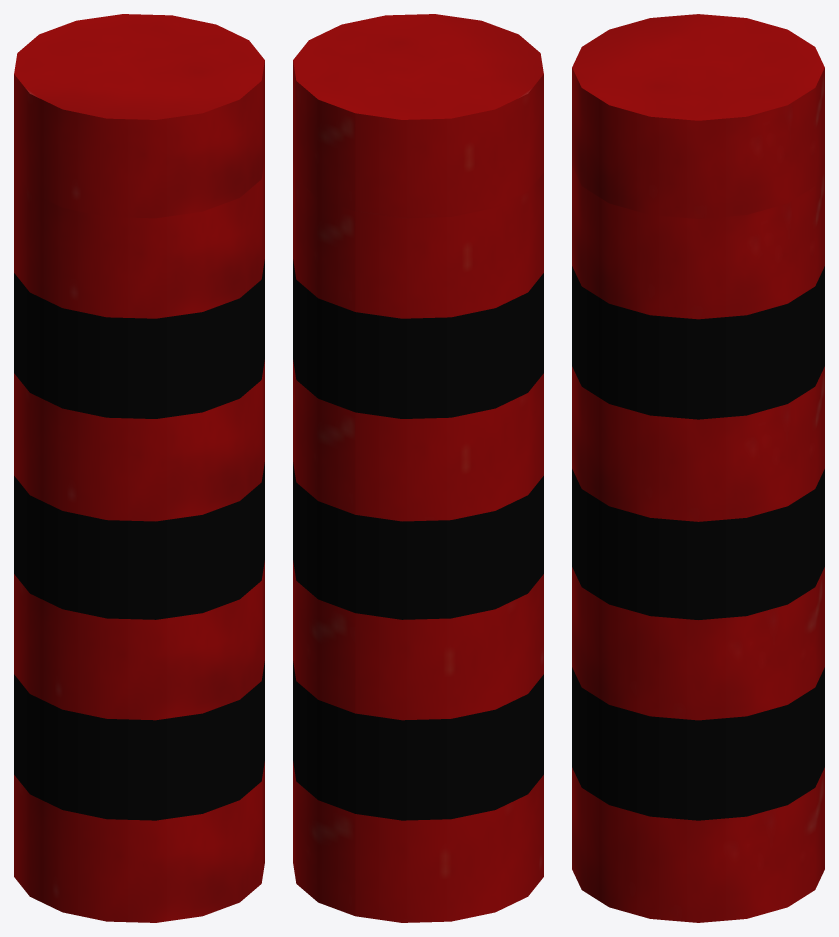
The model's file is pilar2.FBX.
3 renders of one model, left to right at view 1: azimuth 30°, elevation 25°; view 2: azimuth 150°, elevation 25°; view 3: azimuth 270°, elevation 25°, orthographic.
Parts seen in each view (by area): view 1: Cylinder001; view 2: Cylinder001; view 3: Cylinder001.
Part boxes in pixels (x1,y1,x2,y2): Cylinder001: (14,14,264,922); Cylinder001: (293,14,543,922); Cylinder001: (572,14,824,922).
Size of the model in its own units: 1.8 by 6.3 by 1.8.
